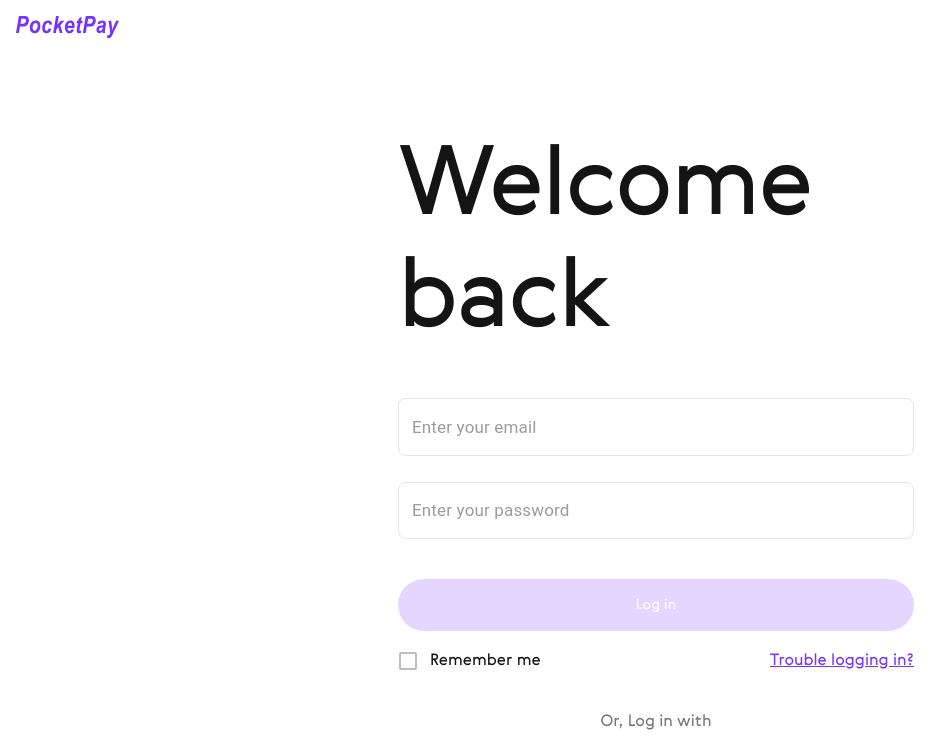
Login Page rendering correctly › login component rendering correctly
Type "vidhyagmail.com" into the field with placeholder "Enter your email" at (656, 427), box [398,398,914,456]
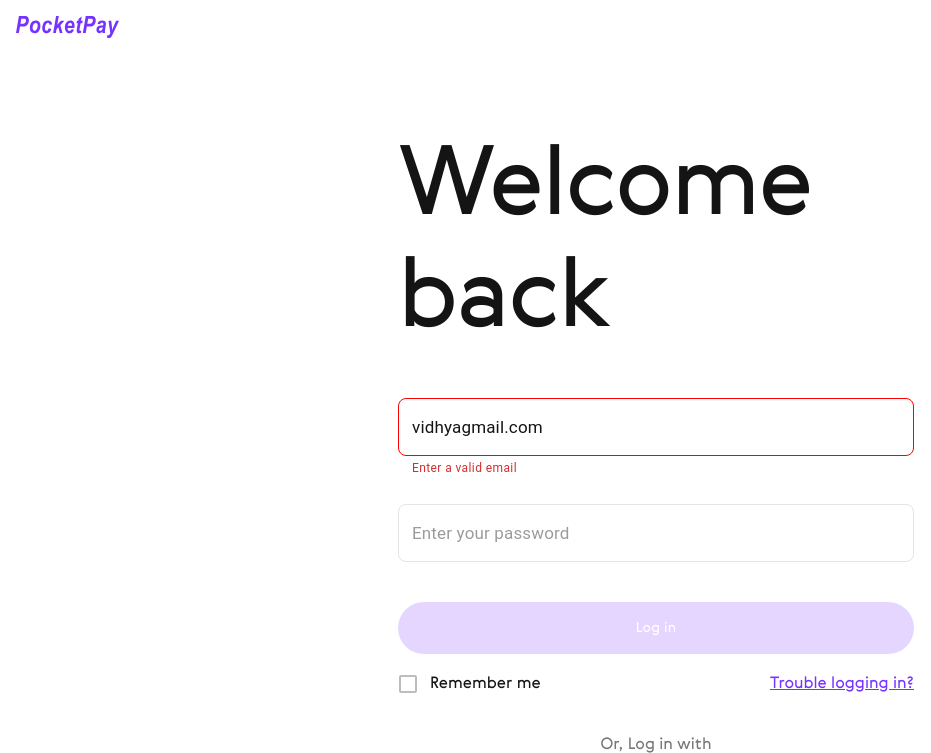
Expected: the text "Enter a valid email" is shown, [412,460,517,474]
Type "password123" into the password field with placeholder "Enter your password" at (656, 533), box [398,504,914,562]
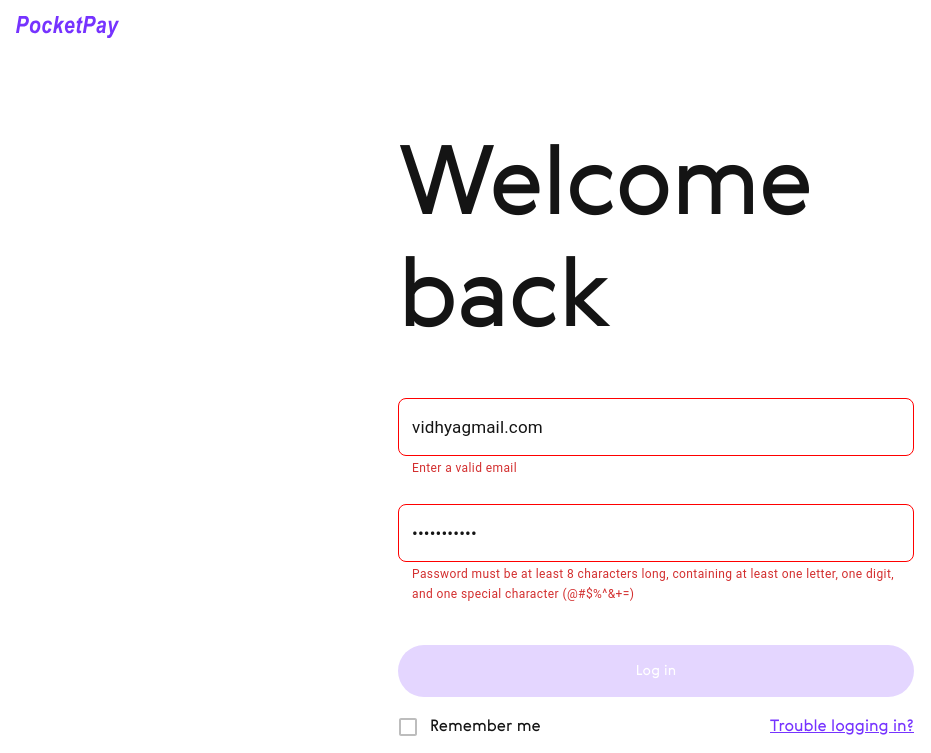
Expected: the text "Password must be at least 8 characters long, containing at least one letter, one digit, and one special character (@#$%^" is shown, [412,567,894,601]
